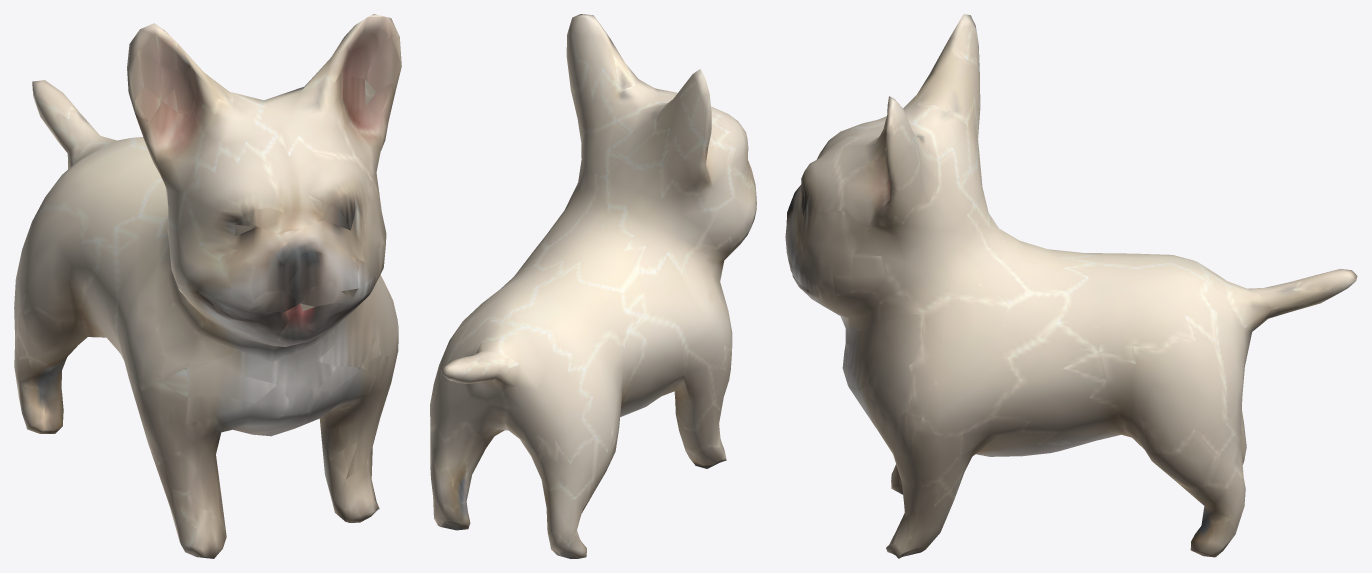
The model's file is 斗牛犬.fbx.
The picture shows the model from 3 angles, left to right: view 1: azimuth 30°, elevation 25°; view 2: azimuth 150°, elevation 25°; view 3: azimuth 270°, elevation 25°; orthographic projection. The views are drawn at different scales.
Visible parts, largest first — view 1: geometry_0.007; view 2: geometry_0.007; view 3: geometry_0.007.
Boxes of the visible parts, x1,y1,x2,y2 form: geometry_0.007: (14, 14, 401, 558); geometry_0.007: (430, 14, 756, 558); geometry_0.007: (785, 14, 1357, 558).
Size of the model in its own units: 45.52 by 90.45 by 99.76.
